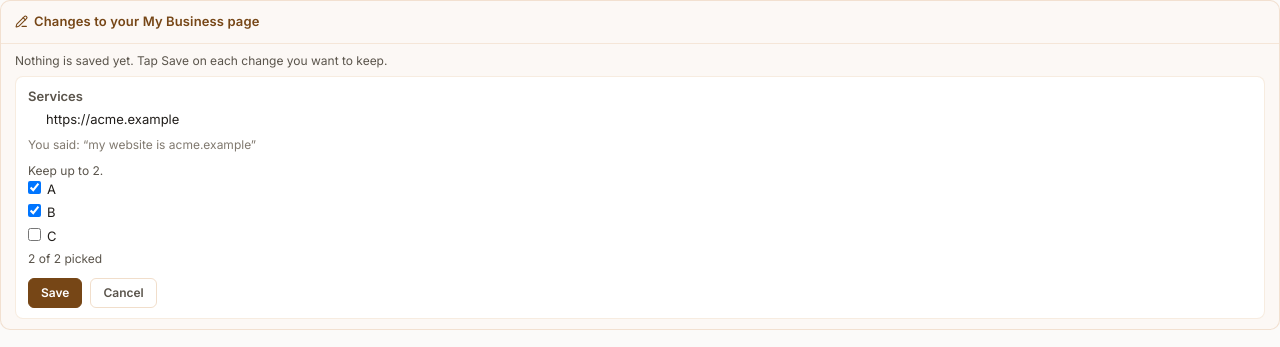
ProfileUpdateArtifact › sends her pick, and holds Save while the pick is over the limit
The image size is (1280, 347).
Later steps or results of the test are not shown.
Expected: the text "2 of 2 picked" is shown, [28, 251, 102, 266]
Click the checkbox labelled "C" at {"x": 34, "y": 234}, box [28, 228, 41, 240]
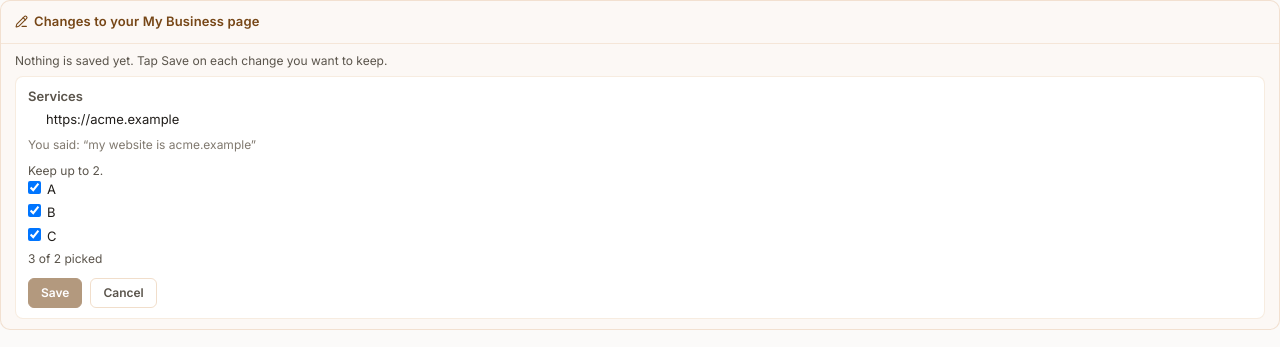
Expected: the button "Save" is disabled, [28, 278, 82, 308]
Click the checkbox labelled "A" at {"x": 34, "y": 187}, box [28, 180, 41, 194]
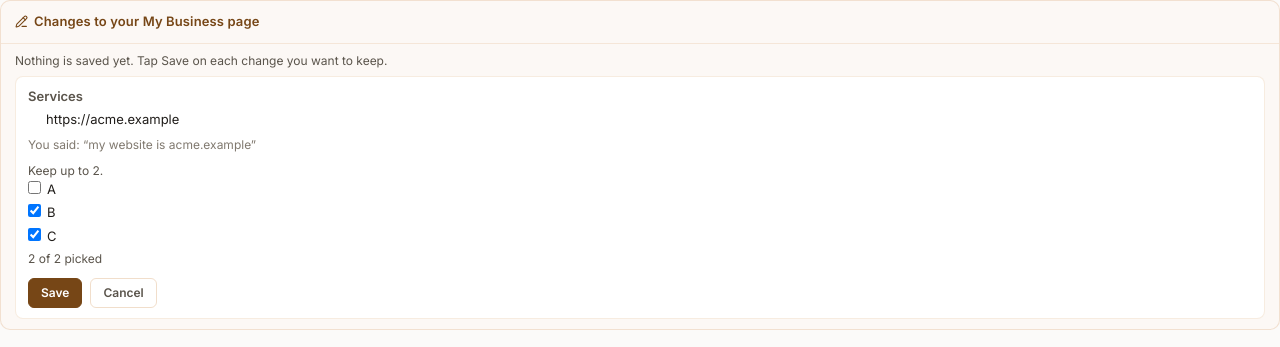
Expected: the button "Save" is enabled, [28, 278, 82, 308]
